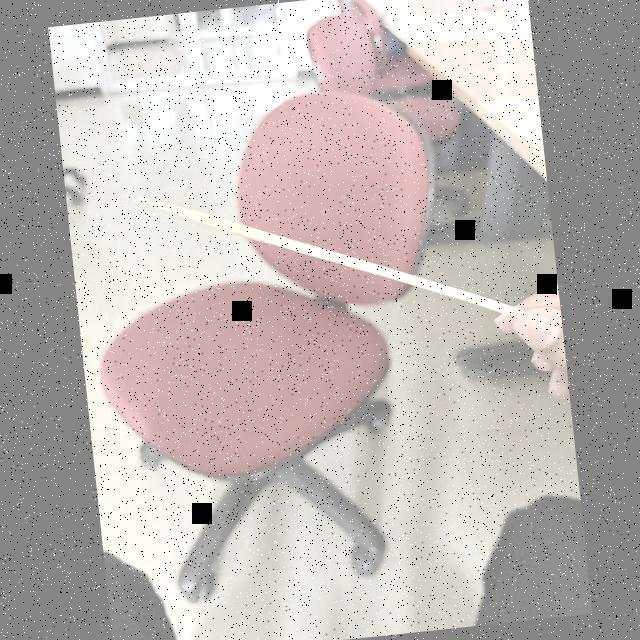stick: (126, 156, 518, 355)
